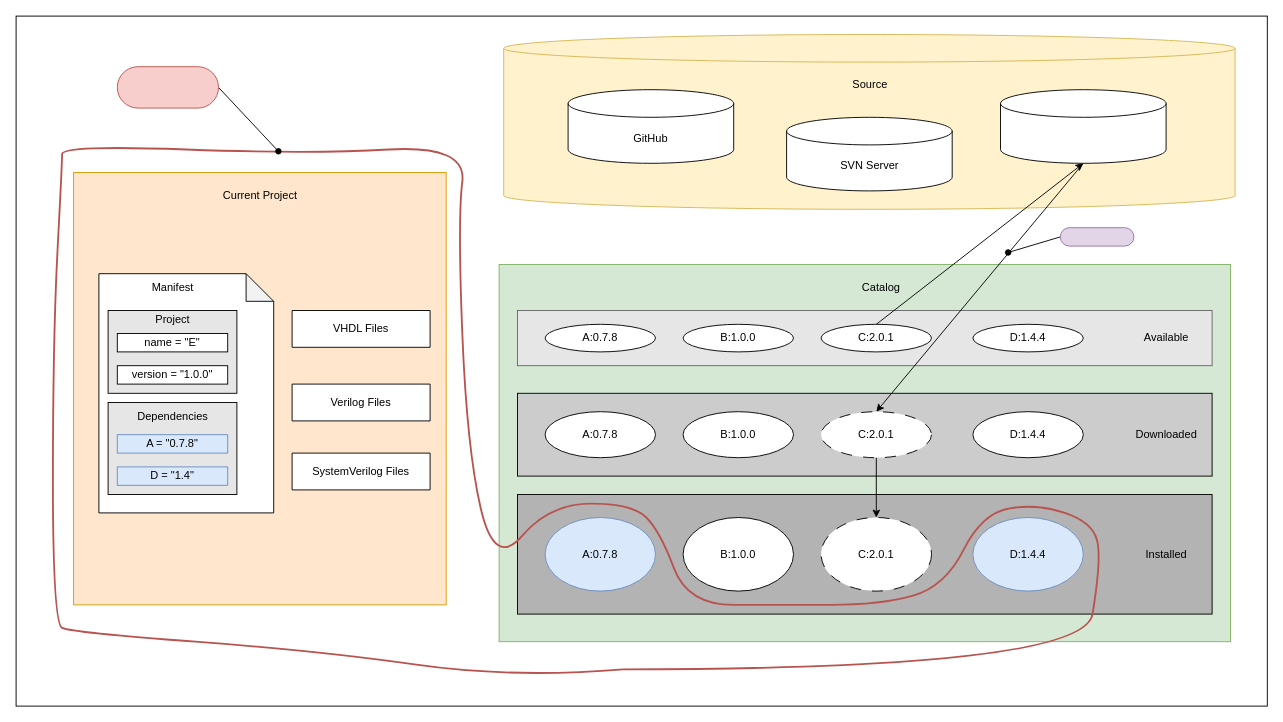
This 1283x722 diagram has some shape labels left out. Each missing label, with the centre of its shape:
Current Project's Field of View: point 167,87
GitLab: point 1083,126
Protocol: point 1096,236
